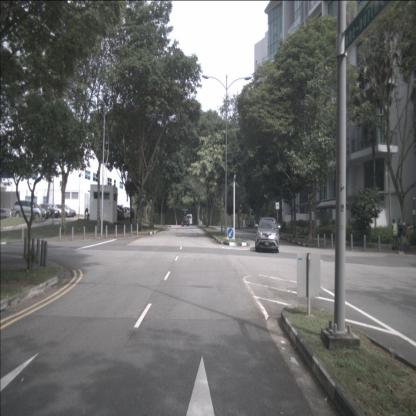human-pedestrian-adult: (398, 217, 406, 255)
vehicle-bicycle: (392, 225, 410, 252)
vehicle-car: (255, 217, 279, 253), (13, 200, 46, 221), (46, 203, 72, 218), (102, 205, 124, 222), (38, 203, 60, 219), (54, 204, 76, 218), (112, 206, 131, 221), (0, 208, 14, 221), (186, 214, 193, 226), (181, 217, 190, 226)
